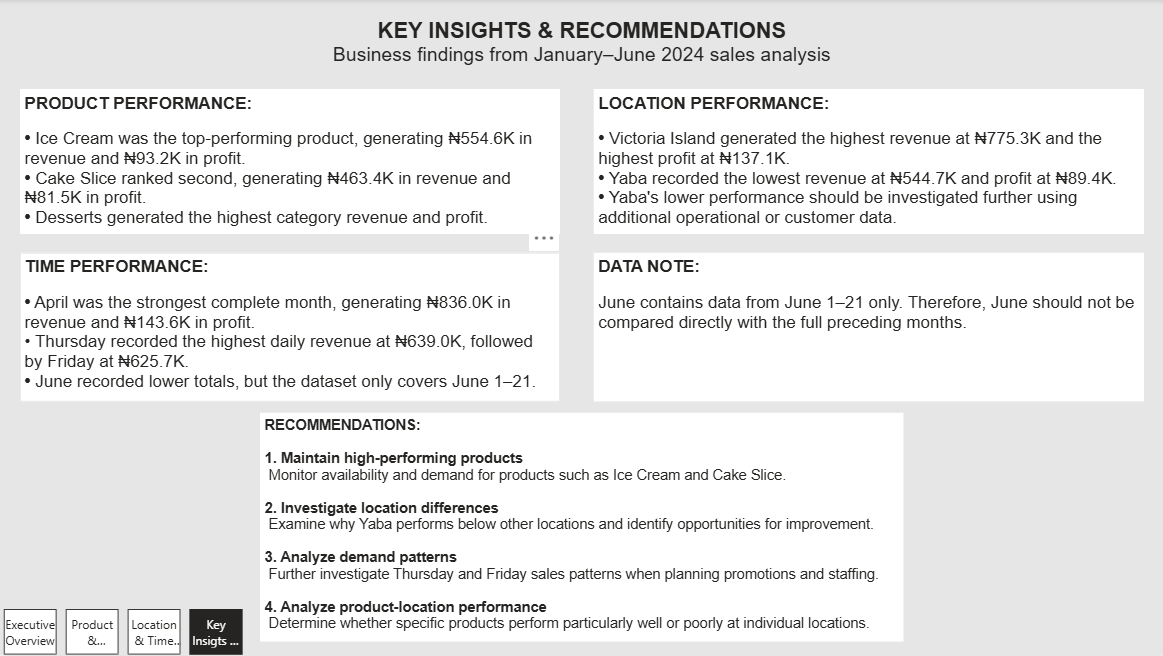

What the dashboard file says about the page in this screenshot:
{"tool":"powerbi","page":{"name":"Key Insigts & Recommendations","canvas":[1280,720],"ordinal":3},"visuals":[{"type":"textbox","box":[358.1,16.5,561.2,71.4],"z":0},{"type":"textbox","box":[22,98.8,592.8,159.2],"z":1000},{"type":"textbox","box":[651.8,98.8,603.8,159.2],"z":2000},{"type":"textbox","box":[22,278.6,592.8,163.3],"z":3000},{"type":"textbox","box":[285.4,454.2,706.7,251.1],"z":4000},{"type":"textbox","box":[651.8,278.6,603.8,163.3],"z":5000},{"type":"pageNavigator","box":[4.1,669.2,262.1,50.8],"z":5001}]}

Visuals, with their boxes on the page's 1280x720 design canvas (x1, y1, x2, y2). These are canvas units, not pixel positions in the 1163x656 screenshot, which may show the page scaled, cropped or inside an application window:
textbox: bbox(358, 16, 919, 88)
textbox: bbox(22, 99, 615, 258)
textbox: bbox(652, 99, 1256, 258)
textbox: bbox(22, 279, 615, 442)
textbox: bbox(285, 454, 992, 705)
textbox: bbox(652, 279, 1256, 442)
pageNavigator: bbox(4, 669, 266, 720)
